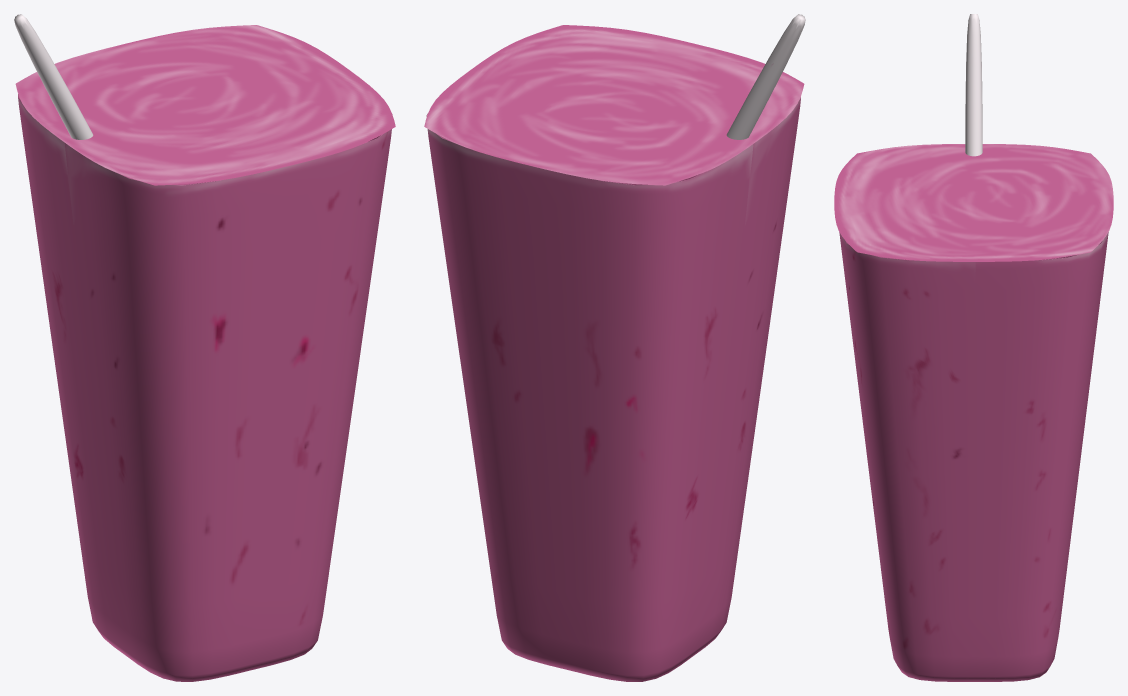
Rendered from pink_fruitSmoothie.fbx.
3 views of the same model, side by side, from view 1: azimuth 30°, elevation 25°; view 2: azimuth 150°, elevation 25°; view 3: azimuth 270°, elevation 25° (orthographic). The views are drawn at different scales.
Visible parts, largest first — view 1: pCylinder2; view 2: pCylinder2; view 3: pCylinder2.
Boxes of the visible parts, left/top/right/bottom form: pCylinder2: left=14, top=14, right=395, bottom=681; pCylinder2: left=424, top=14, right=805, bottom=681; pCylinder2: left=834, top=14, right=1113, bottom=681.
Bounding box in the file's own units: 16.76 × 31.95 × 14.42.
1 material, 1 textured.
